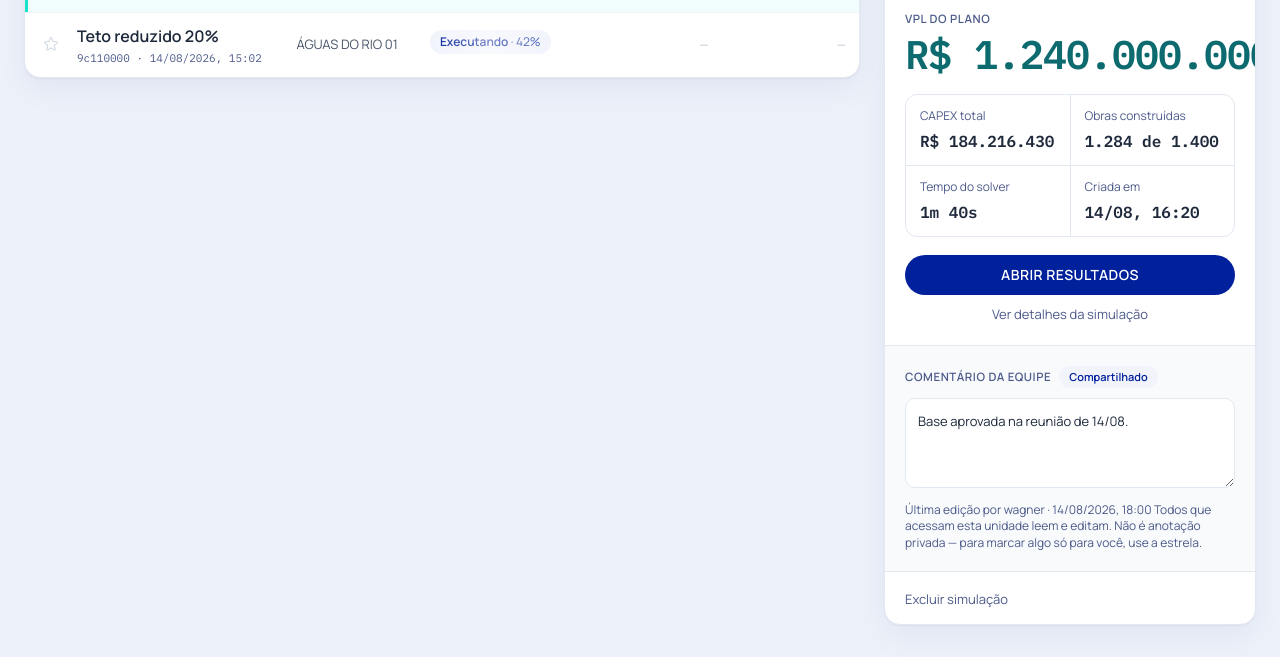
Test: Histórico — a única mutação destrutiva › a confirmação diz que o CADASTRO não é tocado
This screenshot has width=1280, height=657.
(page scrolled)
Click the button "Excluir simulação": (956, 600) [905,590,1008,610]
(page scrolled)
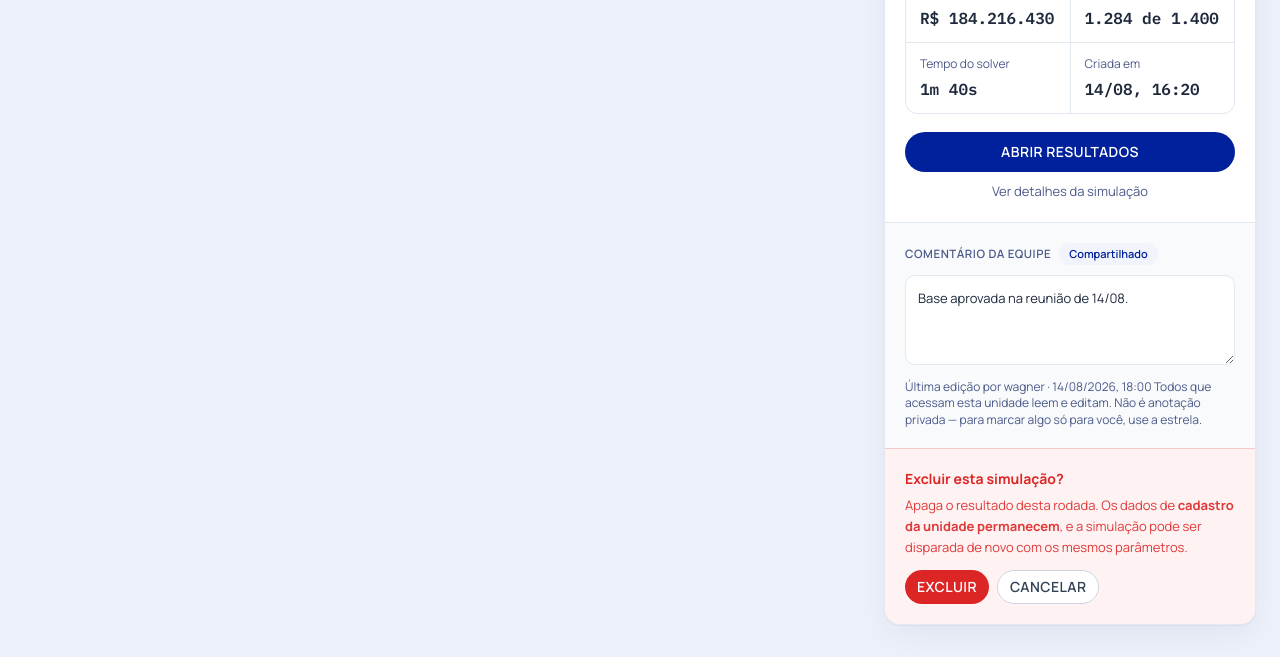
Now the text "Excluir esta simulação?" is shown, box [905,469,1064,488]
Now the text "cadastro da unidade permanecem" is shown, box [905,496,1234,535]
